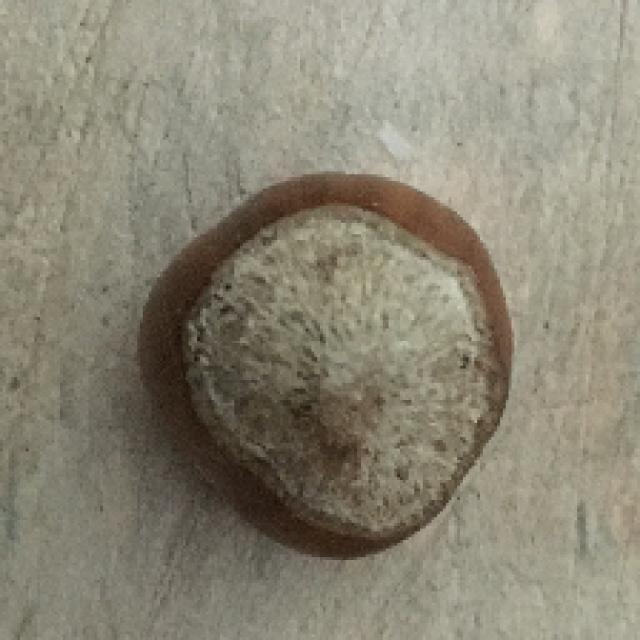qualityHazelnut: (136, 165, 509, 558)
